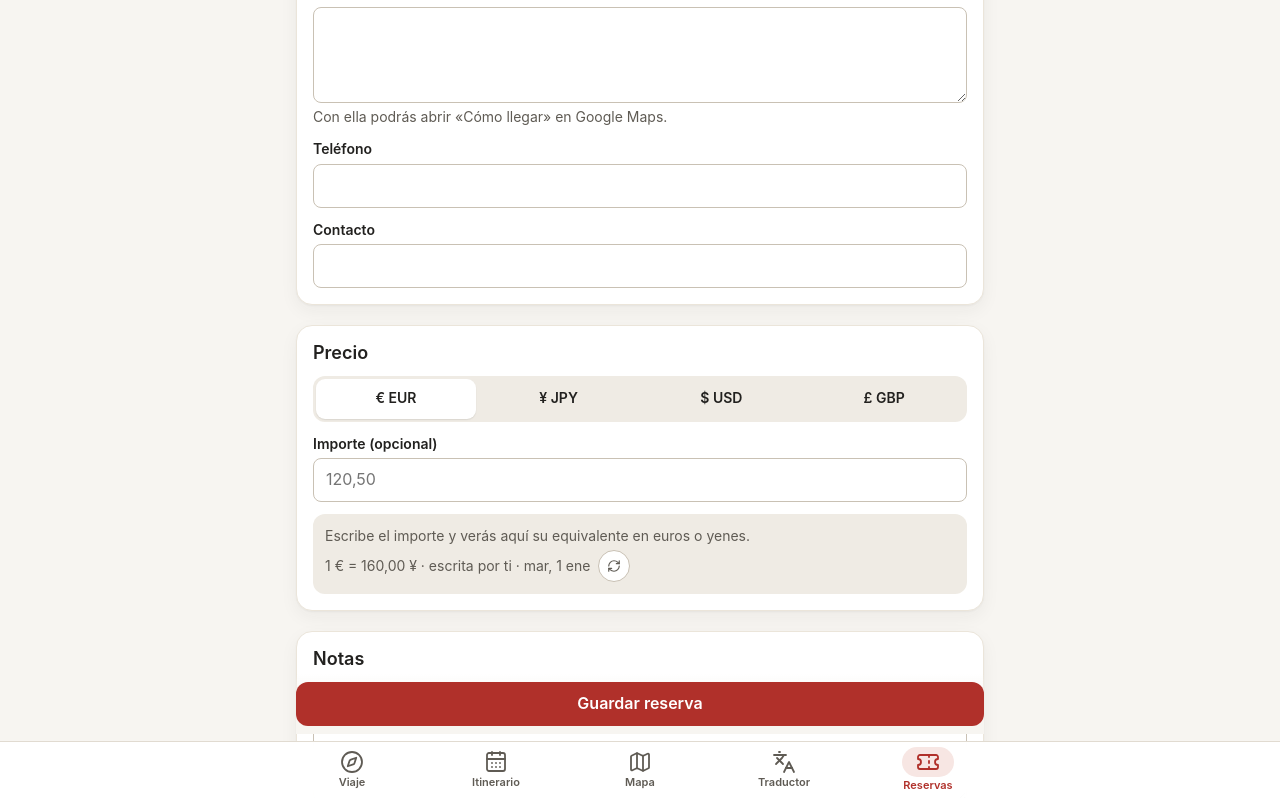
Test case: yenes y euros › el precio de una reserva muestra el equivalente en la otra moneda
(page scrolled)
Click the button "¥ JPY": click(559, 399) x1=479 y1=379 x2=639 y2=419
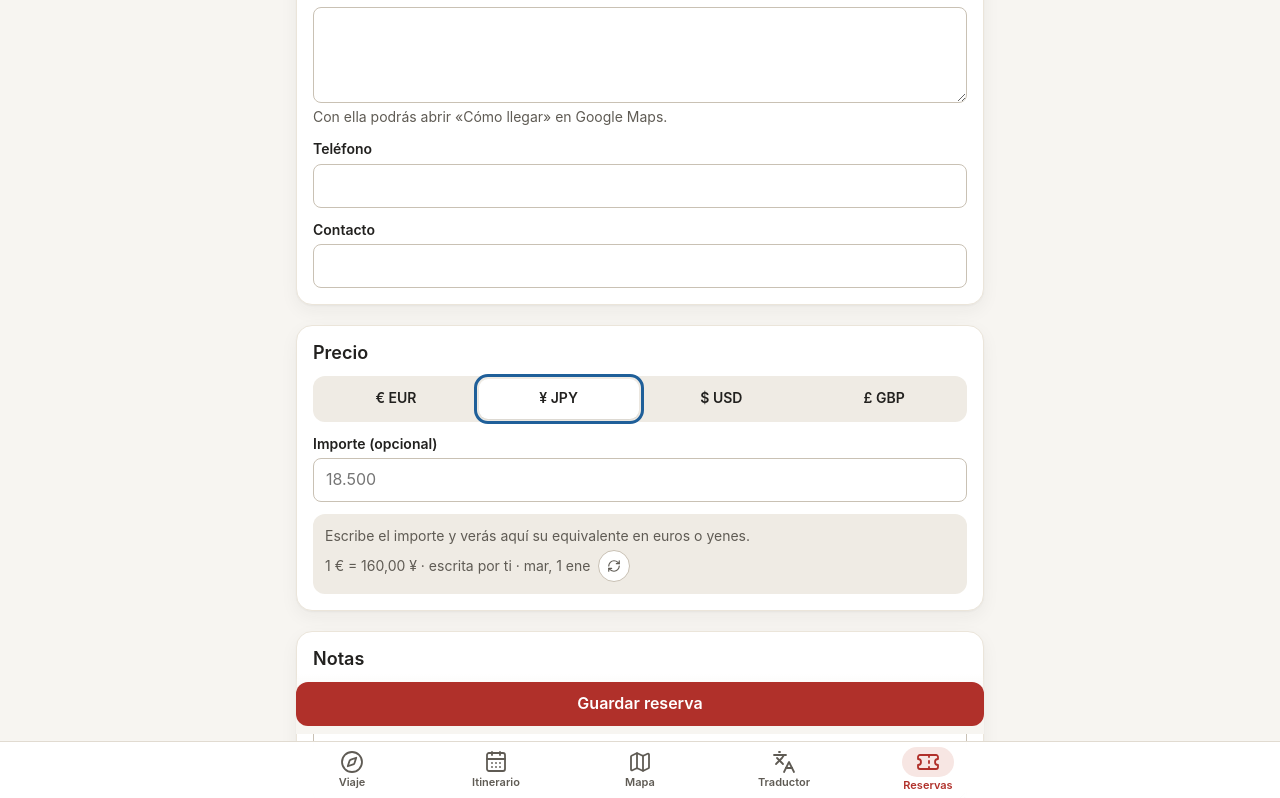
In the field labelled "Importe (opcional)": (640, 480) x1=313 y1=458 x2=967 y2=502, type "16.000"
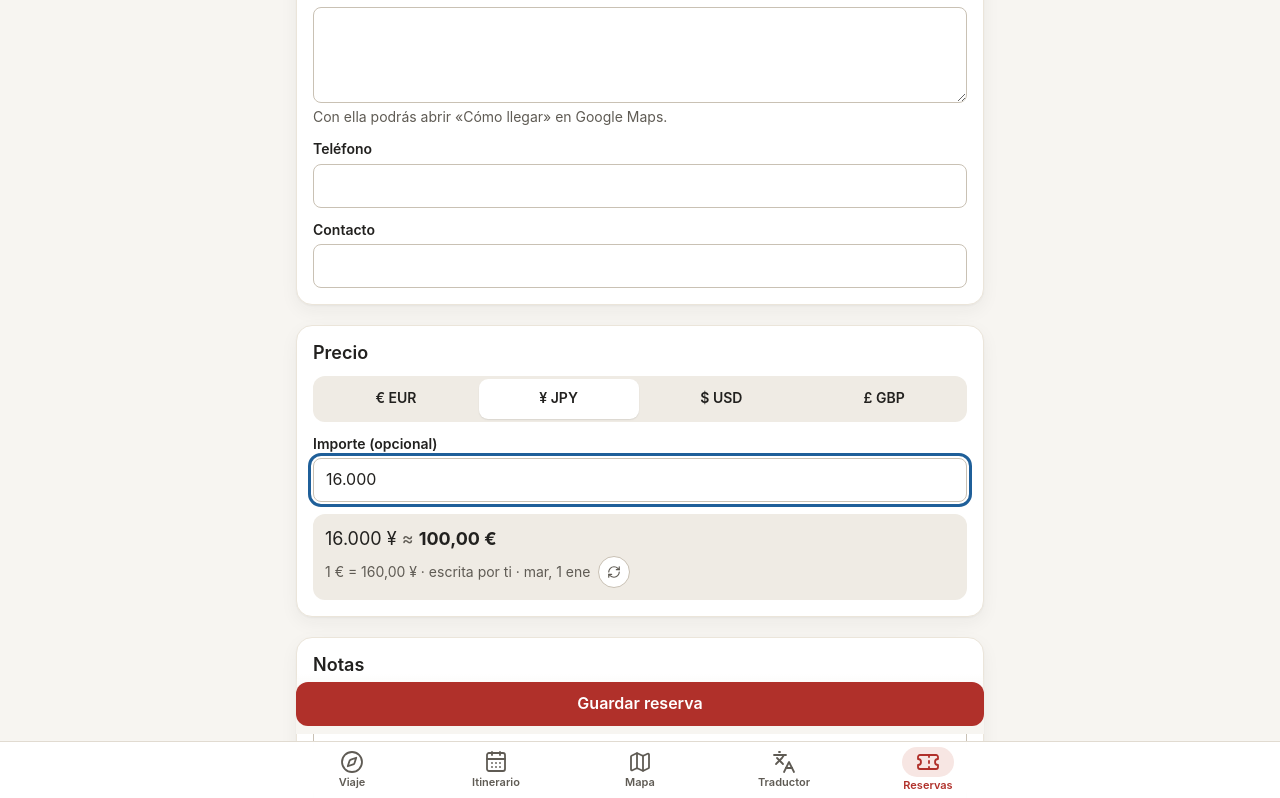
expect the text "100,00 €" is shown: met, box x1=419 y1=528 x2=497 y2=549
Click the button "€ EUR": click(396, 399) x1=316 y1=379 x2=476 y2=419
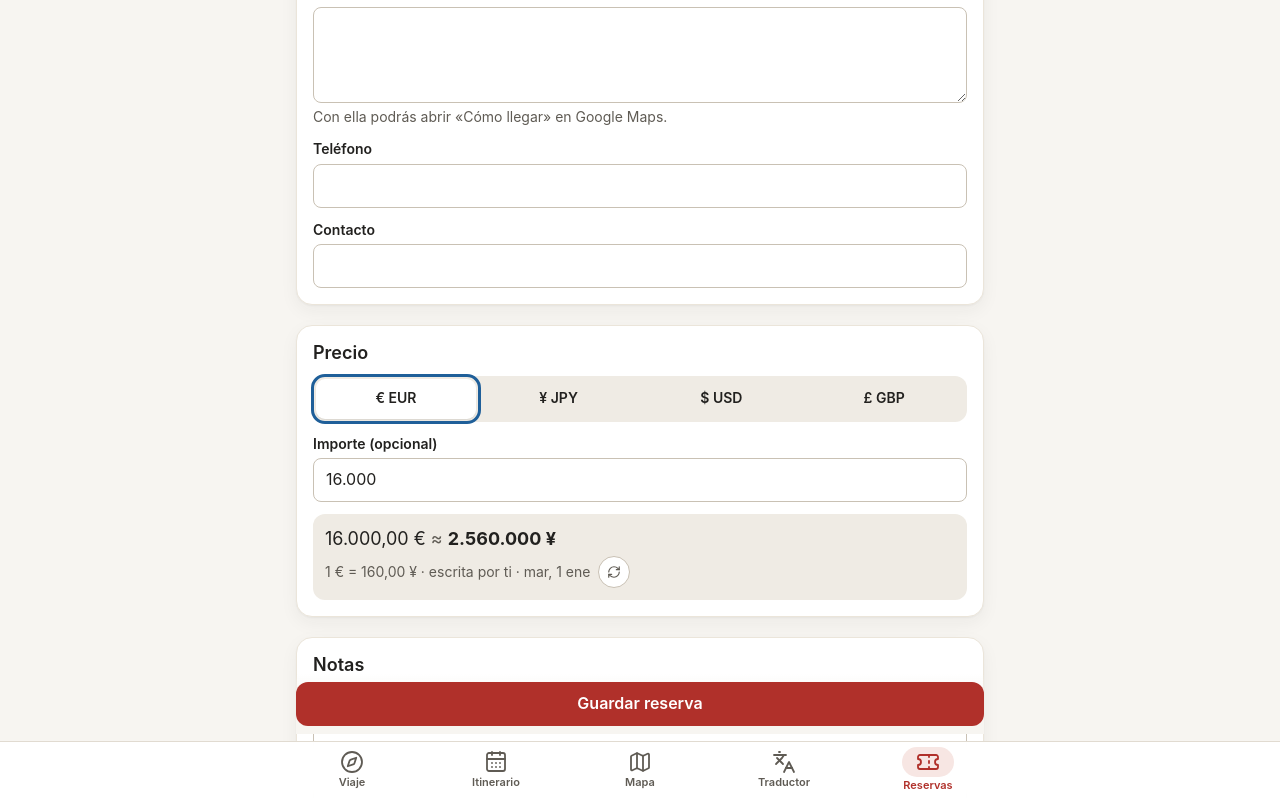
expect the text "2.560.000 ¥" is shown: met, box x1=448 y1=528 x2=556 y2=549
